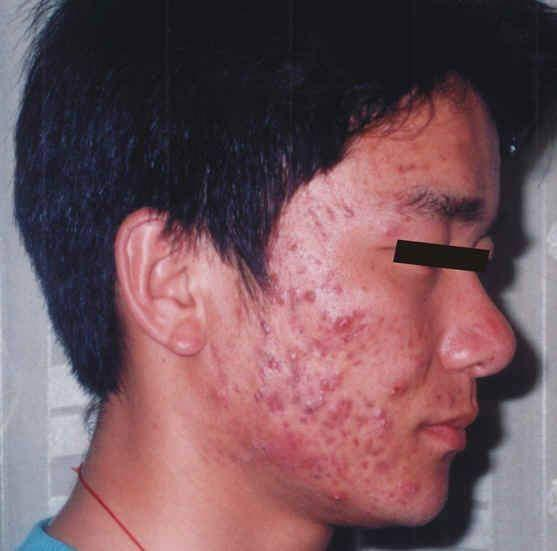fore: (258, 258, 293, 288), (321, 482, 352, 515), (293, 452, 325, 481), (446, 329, 484, 352), (326, 308, 358, 335), (310, 330, 338, 360), (310, 363, 341, 390), (383, 364, 408, 397), (394, 468, 419, 501), (282, 310, 309, 339), (245, 432, 275, 457), (326, 448, 353, 474), (270, 283, 295, 310), (344, 344, 371, 367), (244, 388, 276, 407), (372, 452, 397, 476), (284, 234, 310, 257), (482, 312, 503, 338), (371, 396, 387, 430), (298, 283, 319, 308), (210, 379, 231, 404), (317, 399, 346, 417), (397, 159, 421, 180), (441, 382, 462, 406), (288, 362, 307, 388), (335, 195, 352, 223), (338, 427, 365, 444), (348, 413, 372, 432), (302, 209, 330, 225), (408, 350, 429, 371), (249, 365, 269, 386), (369, 312, 388, 334), (249, 335, 271, 354), (298, 396, 316, 418), (377, 220, 399, 238), (254, 318, 277, 335), (321, 438, 344, 455), (315, 418, 339, 434), (232, 279, 252, 298), (277, 421, 298, 439), (359, 457, 375, 479), (360, 439, 387, 451), (385, 307, 403, 325), (272, 391, 289, 410), (386, 199, 405, 216), (291, 260, 309, 277), (321, 263, 337, 282), (402, 332, 418, 351), (232, 302, 247, 322), (354, 278, 371, 295), (313, 226, 330, 243), (265, 351, 277, 375), (355, 173, 371, 191), (283, 345, 300, 361), (365, 494, 384, 508), (205, 339, 221, 355), (327, 278, 347, 290), (251, 305, 271, 317), (358, 393, 371, 411), (350, 384, 365, 399), (389, 323, 405, 337), (356, 504, 369, 519), (309, 256, 325, 268), (394, 338, 406, 352), (388, 417, 400, 426)
